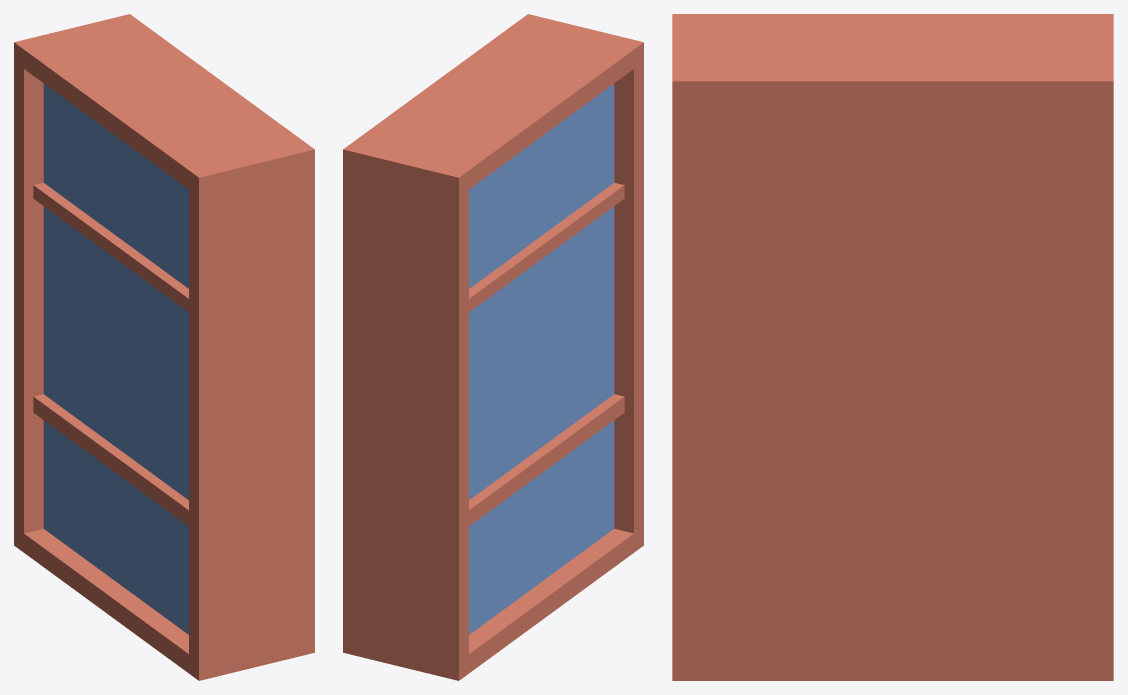
File: Final_Building_Window.fbx
3 renders of one model, left to right at view 1: azimuth 30°, elevation 25°; view 2: azimuth 150°, elevation 25°; view 3: azimuth 270°, elevation 25°, orthographic. The views are drawn at different scales.
Parts seen in each view (by area): view 1: Final_Building_Windows; view 2: Final_Building_Windows; view 3: Final_Building_Windows.
Boxes of the visible parts, <box> form: Final_Building_Windows: <box>14,14,314,680</box>; Final_Building_Windows: <box>343,14,643,680</box>; Final_Building_Windows: <box>672,14,1113,680</box>.
Bounding box in the file's own units: 72.31 × 300 × 200.
